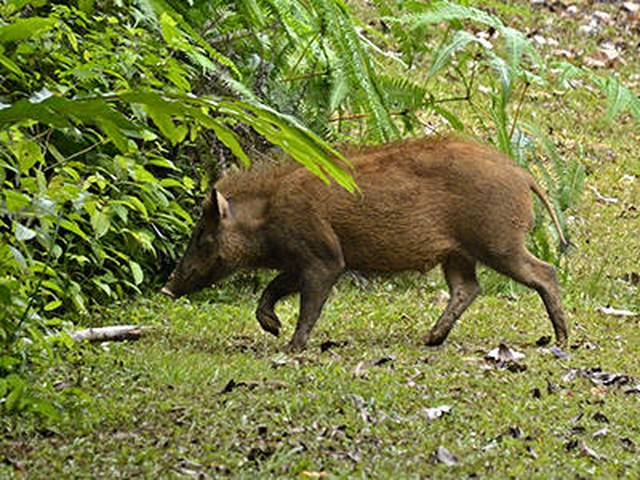Pig: (166, 152, 575, 344)
